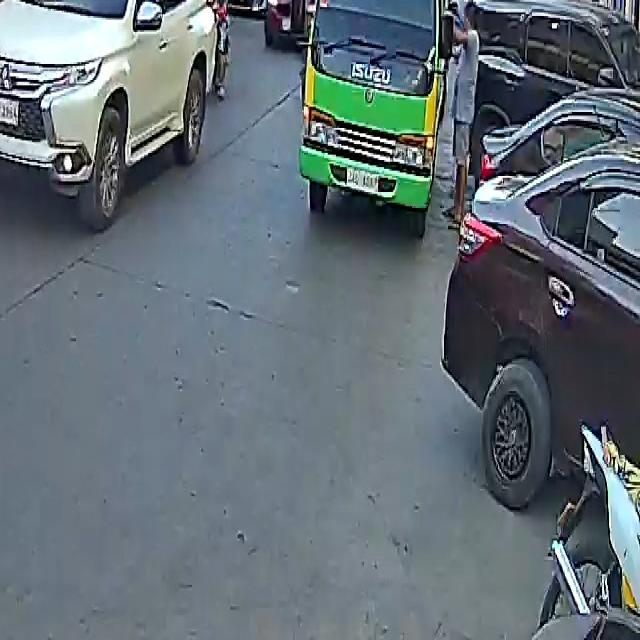car: (443, 83, 640, 523), (0, 0, 230, 222), (462, 0, 640, 190), (261, 0, 328, 48), (220, 0, 289, 18)
